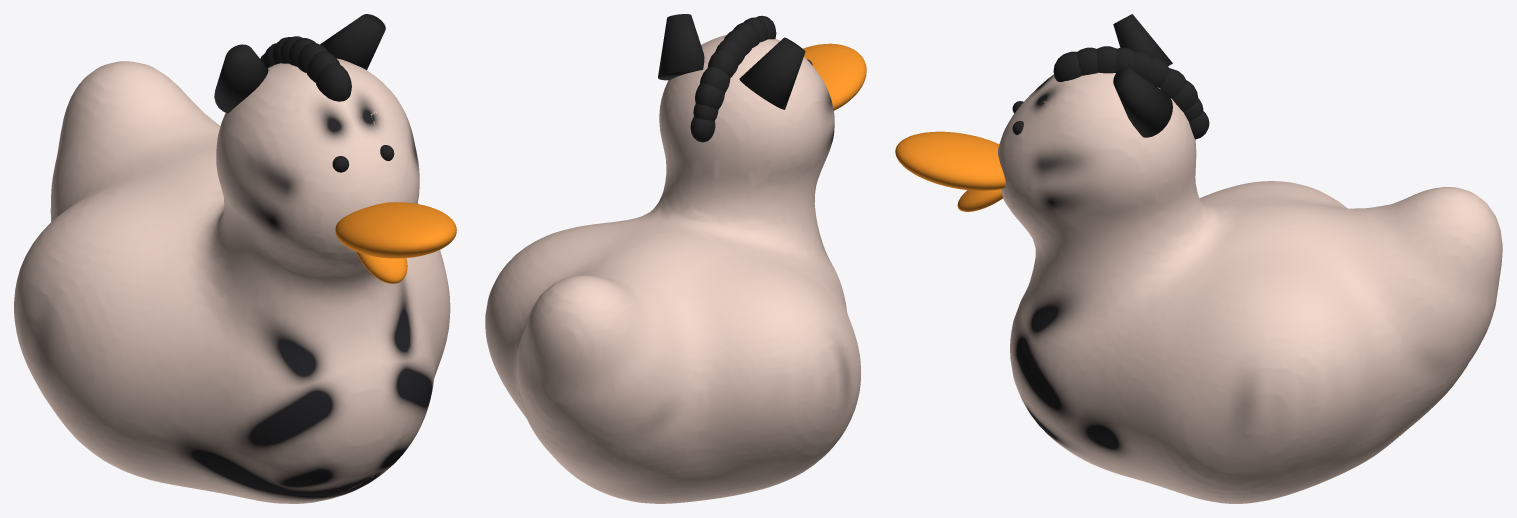
Rendered from zeeb.glb.
The picture shows the model from 3 angles, left to right: view 1: azimuth 30°, elevation 25°; view 2: azimuth 150°, elevation 25°; view 3: azimuth 270°, elevation 25°; orthographic projection. The views are drawn at different scales.
Parts seen in each view (by area): view 1: Zeeb_Body, Zeeb_EarL, Zeeb_BillTop; view 2: Zeeb_Body, Zeeb_EarL, Zeeb_BillTop; view 3: Zeeb_Body, Zeeb_EarL, Zeeb_BillTop.
Boxes of the visible parts, box(x1,y1,x2,y2) form: Zeeb_Body: box(14, 58, 450, 503); Zeeb_EarL: box(214, 14, 394, 172); Zeeb_BillTop: box(335, 202, 456, 283); Zeeb_Body: box(485, 35, 860, 503); Zeeb_EarL: box(658, 14, 812, 142); Zeeb_BillTop: box(803, 43, 866, 110); Zeeb_Body: box(998, 72, 1502, 503); Zeeb_EarL: box(1012, 14, 1209, 139); Zeeb_BillTop: box(895, 131, 1005, 211).
Bounding box in the file's own units: 1.04 × 1.23 × 1.55.
Materials: 3 (1 with a texture image).
